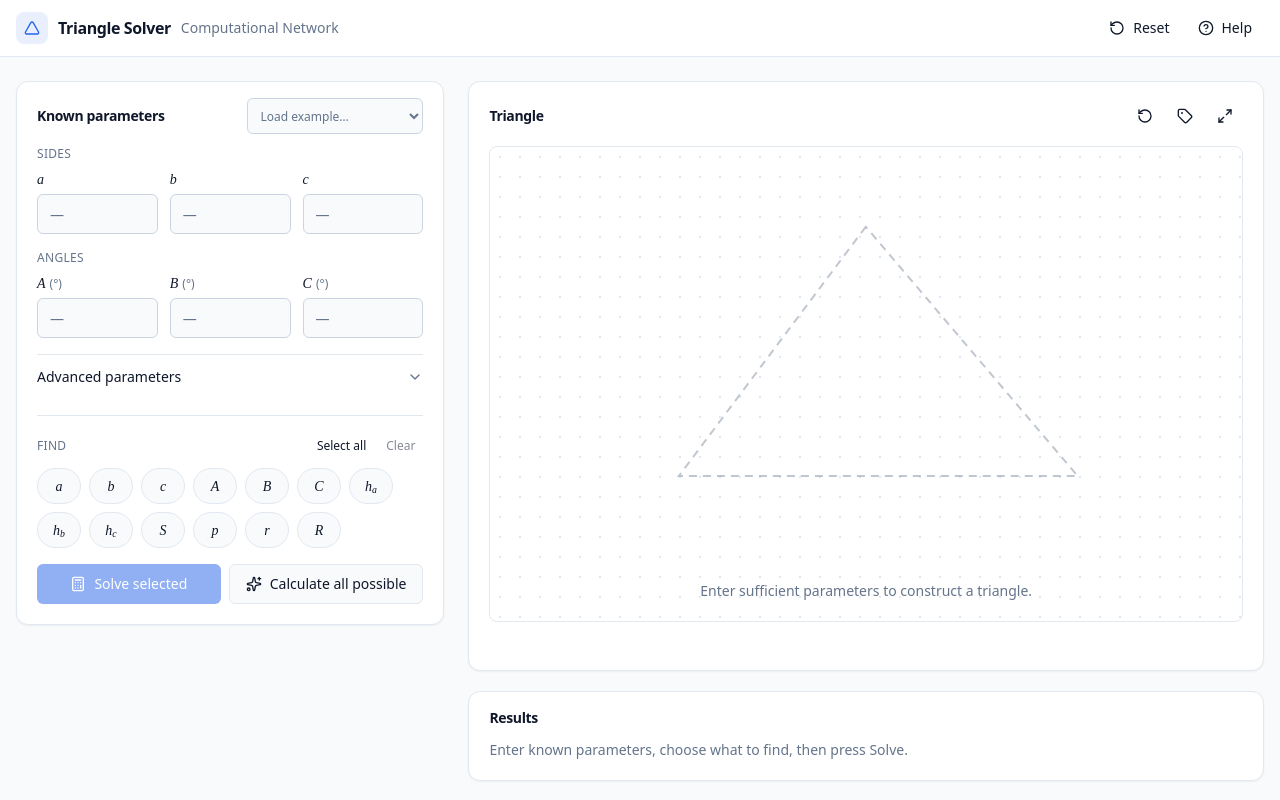
Test: App › Calculate all possible requests every variable
The image size is (1280, 800).
Type "3" into the field with id "input-a". click: (97, 214)
box: [37, 194, 158, 234]
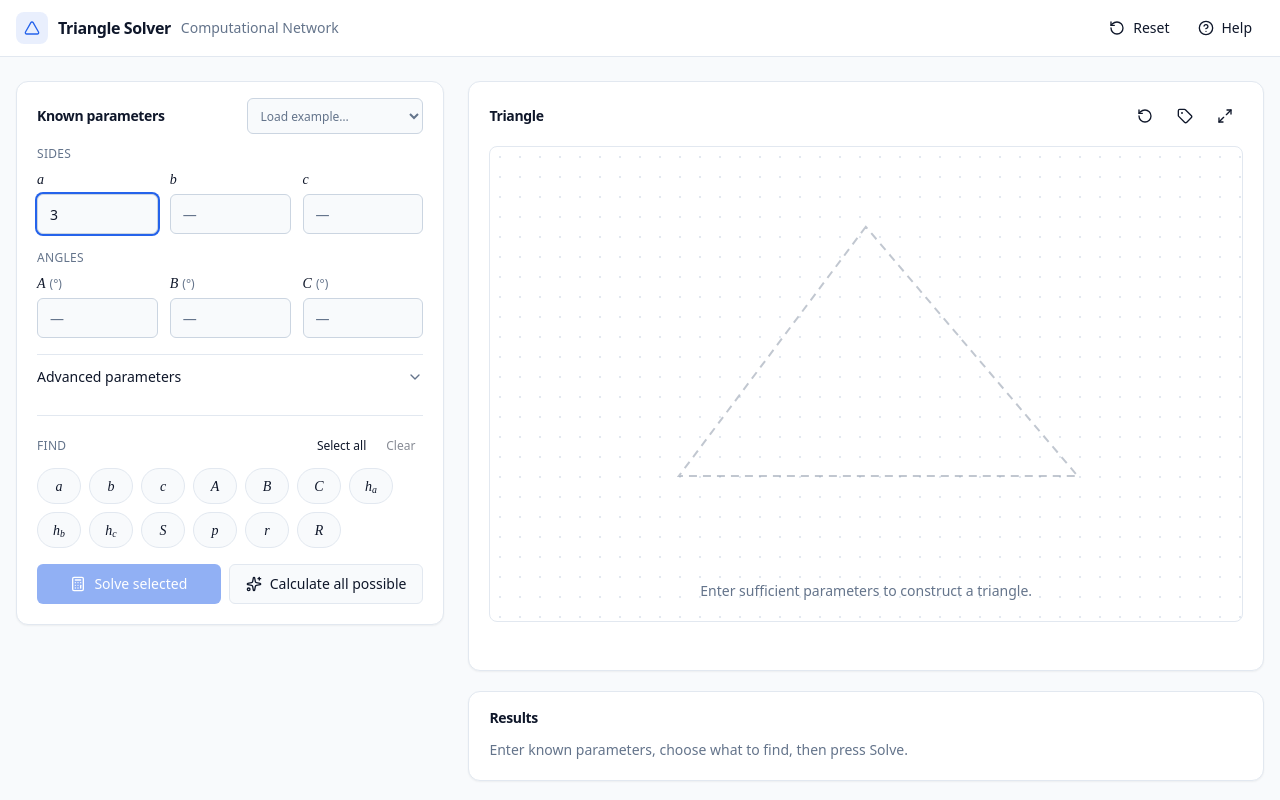
Click the button "Calculate all possible". click: (326, 584)
box: [229, 564, 423, 604]
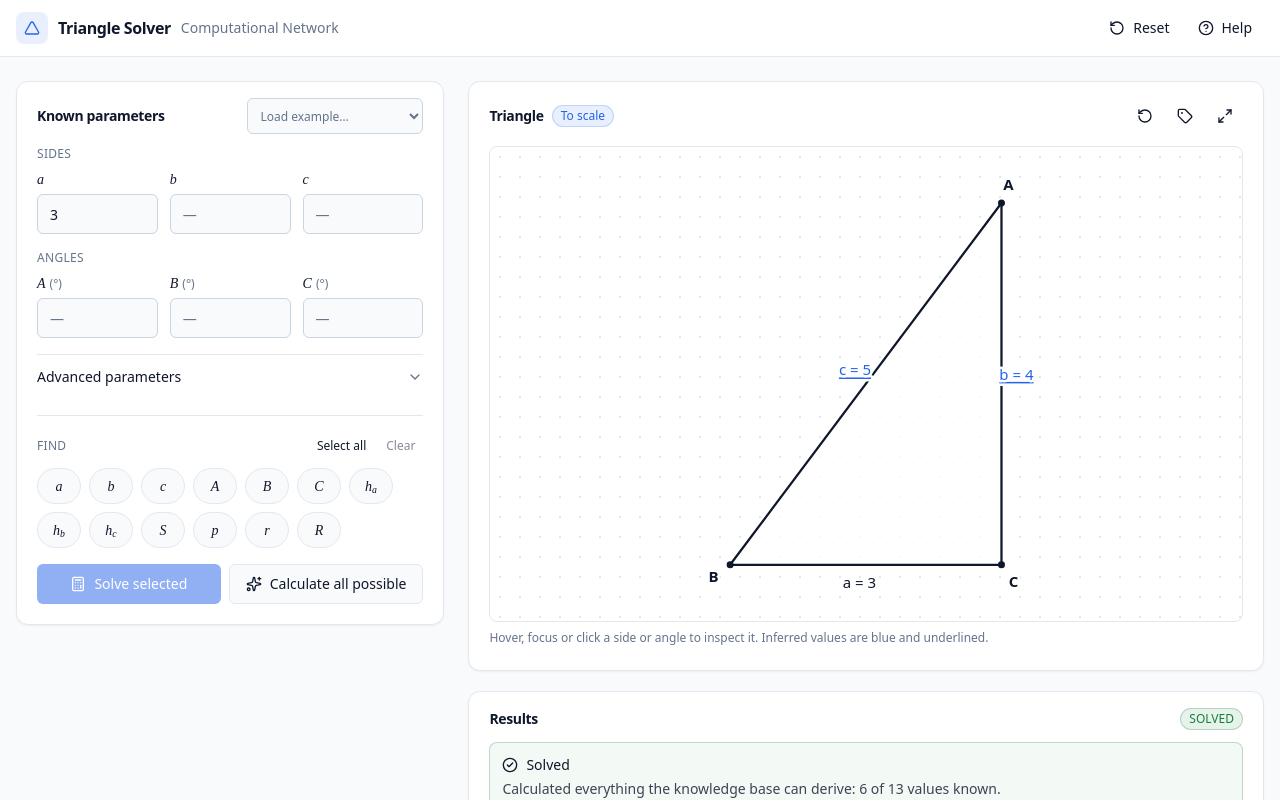
Expected: the text "SOLVED" is shown, [1180, 708, 1243, 730]
